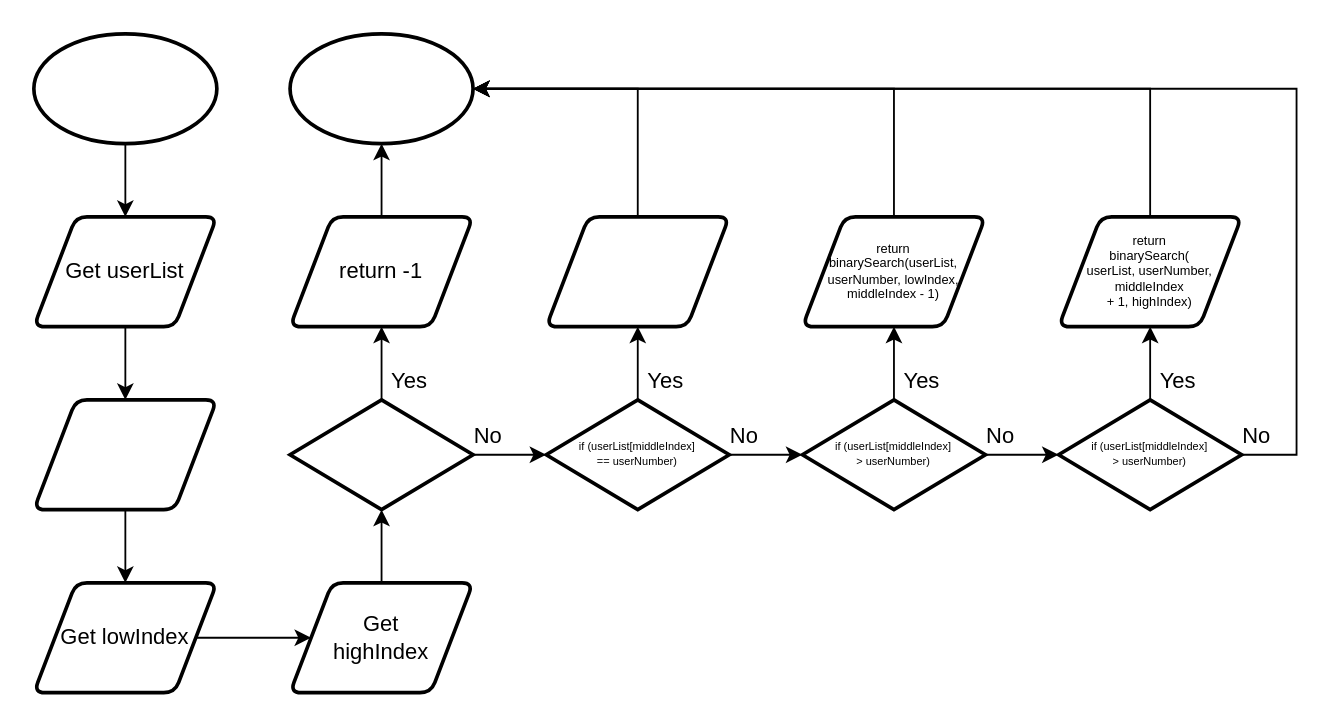
Image size: 1343x725. Some labels were removed from this diagram. The box of each missing label's shape, as (x1, y1, x2, y2) in pixels:
Get userNumber: (31, 397, 218, 511)
if (lowIndex > highIndex): (287, 397, 474, 511)
return middleIndex: (544, 214, 730, 328)
Start: (31, 31, 218, 145)
Stop: (287, 31, 474, 145)
